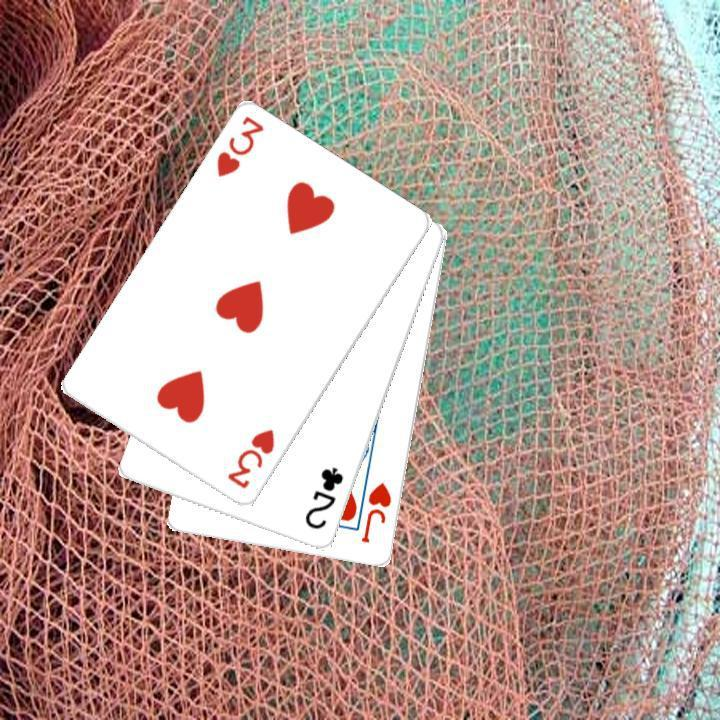2: (301, 463, 346, 532)
3: (212, 112, 266, 180), (223, 425, 277, 492)
J: (357, 478, 394, 545)
